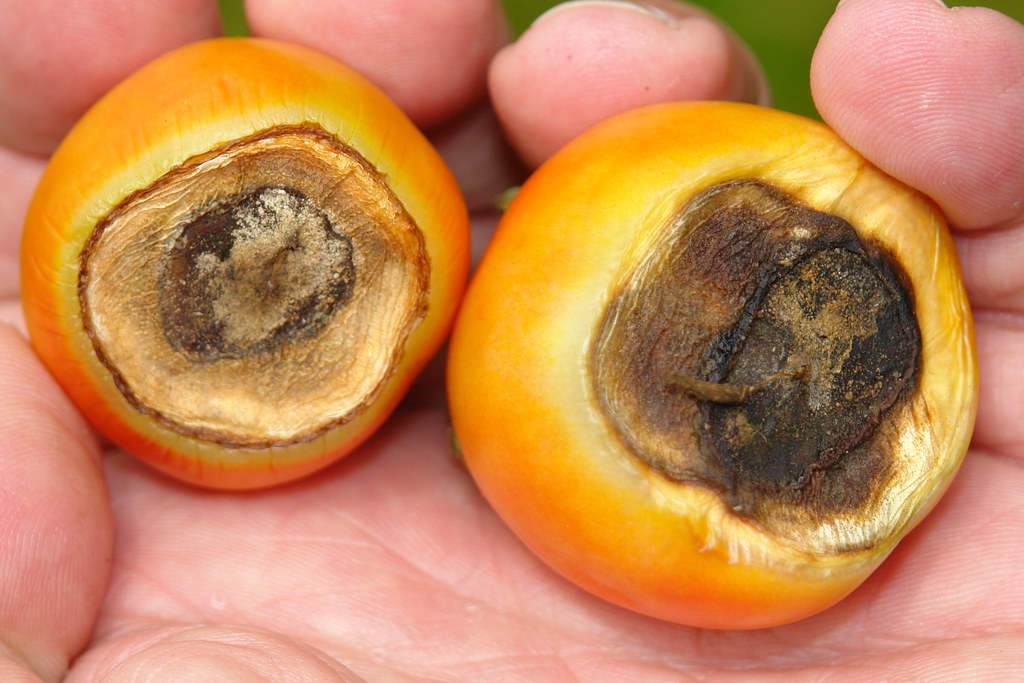blossom_rotw: (569, 148, 951, 530), (80, 119, 432, 440)
